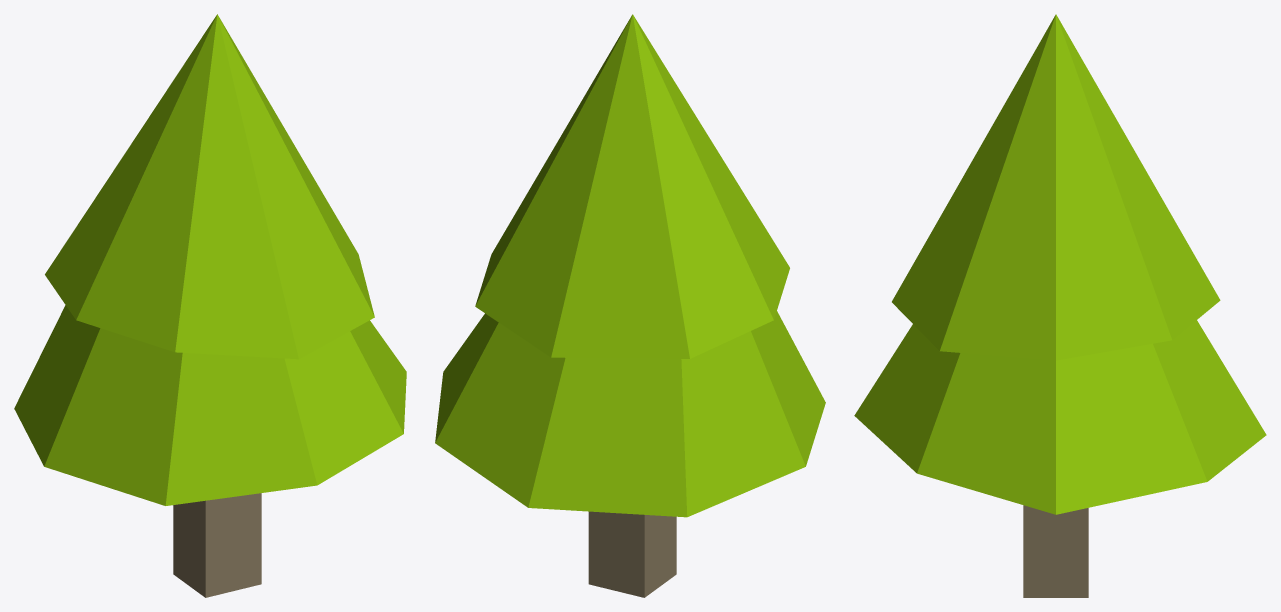
File: pine_skewed_7.fbx
The picture shows the model from 3 angles, left to right: view 1: azimuth 30°, elevation 25°; view 2: azimuth 150°, elevation 25°; view 3: azimuth 270°, elevation 25°; orthographic projection.
Parts seen in each view (by area): view 1: pine_skewed_7; view 2: pine_skewed_7; view 3: pine_skewed_7.
Boxes of the visible parts, <box> form: pine_skewed_7: <box>14,14,406,597</box>; pine_skewed_7: <box>435,14,825,597</box>; pine_skewed_7: <box>854,14,1266,597</box>.
Bounding box in the file's own units: 78.36 × 117 × 76.51.
